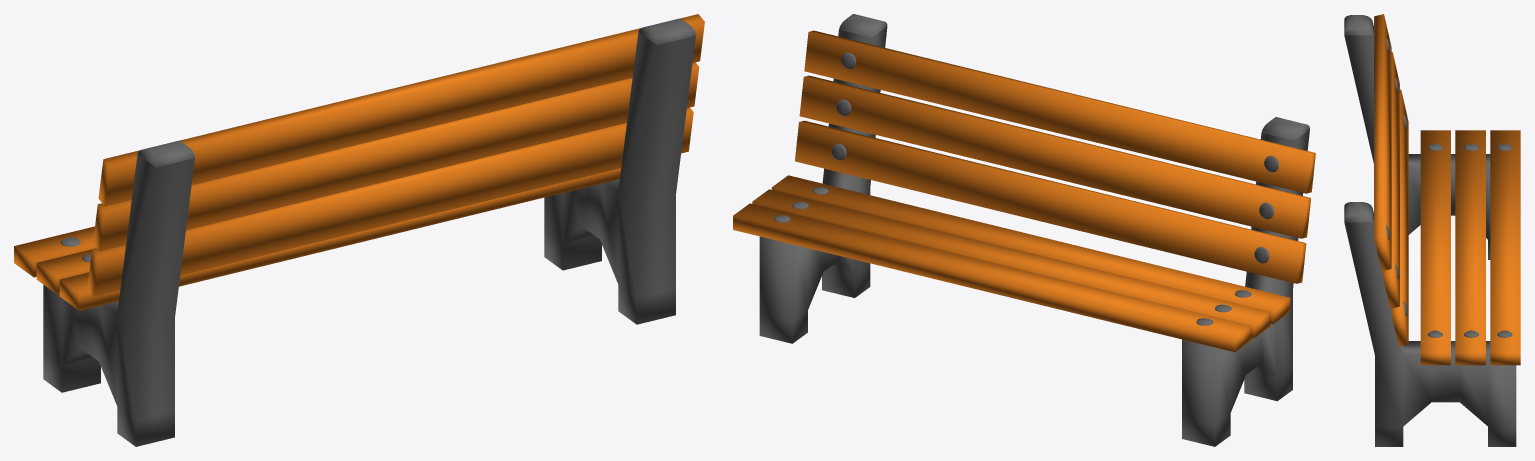
File: woodenbench.fbx
3 views of the same model, side by side, from view 1: azimuth 30°, elevation 25°; view 2: azimuth 150°, elevation 25°; view 3: azimuth 270°, elevation 25° (orthographic). The views are drawn at different scales.
Visible parts, largest first — view 1: Cube; view 2: Cube; view 3: Cube.
Boxes of the visible parts, <box> form: Cube: <box>14,14,704,446</box>; Cube: <box>733,14,1315,446</box>; Cube: <box>1344,14,1520,446</box>.
Size of the model in its own units: 2.47 by 0.8288 by 1.2.
